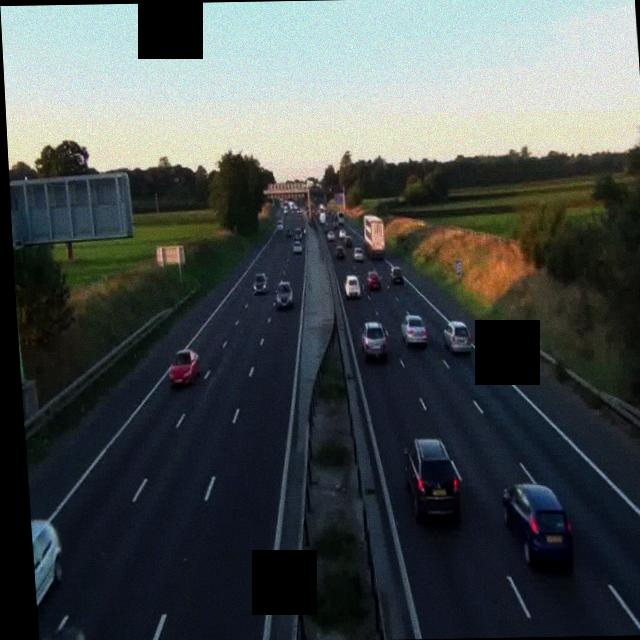car: (502, 483, 573, 568), (403, 438, 461, 520), (30, 520, 68, 638), (167, 348, 202, 387), (360, 322, 388, 359), (442, 322, 473, 354), (400, 314, 428, 346), (37, 626, 92, 640), (273, 279, 294, 309), (344, 274, 361, 298), (254, 272, 269, 294), (389, 264, 403, 284), (366, 270, 381, 288), (353, 246, 366, 262), (338, 244, 350, 260), (291, 240, 302, 254), (296, 226, 304, 238)
truck: (363, 215, 386, 256), (318, 208, 327, 224)
